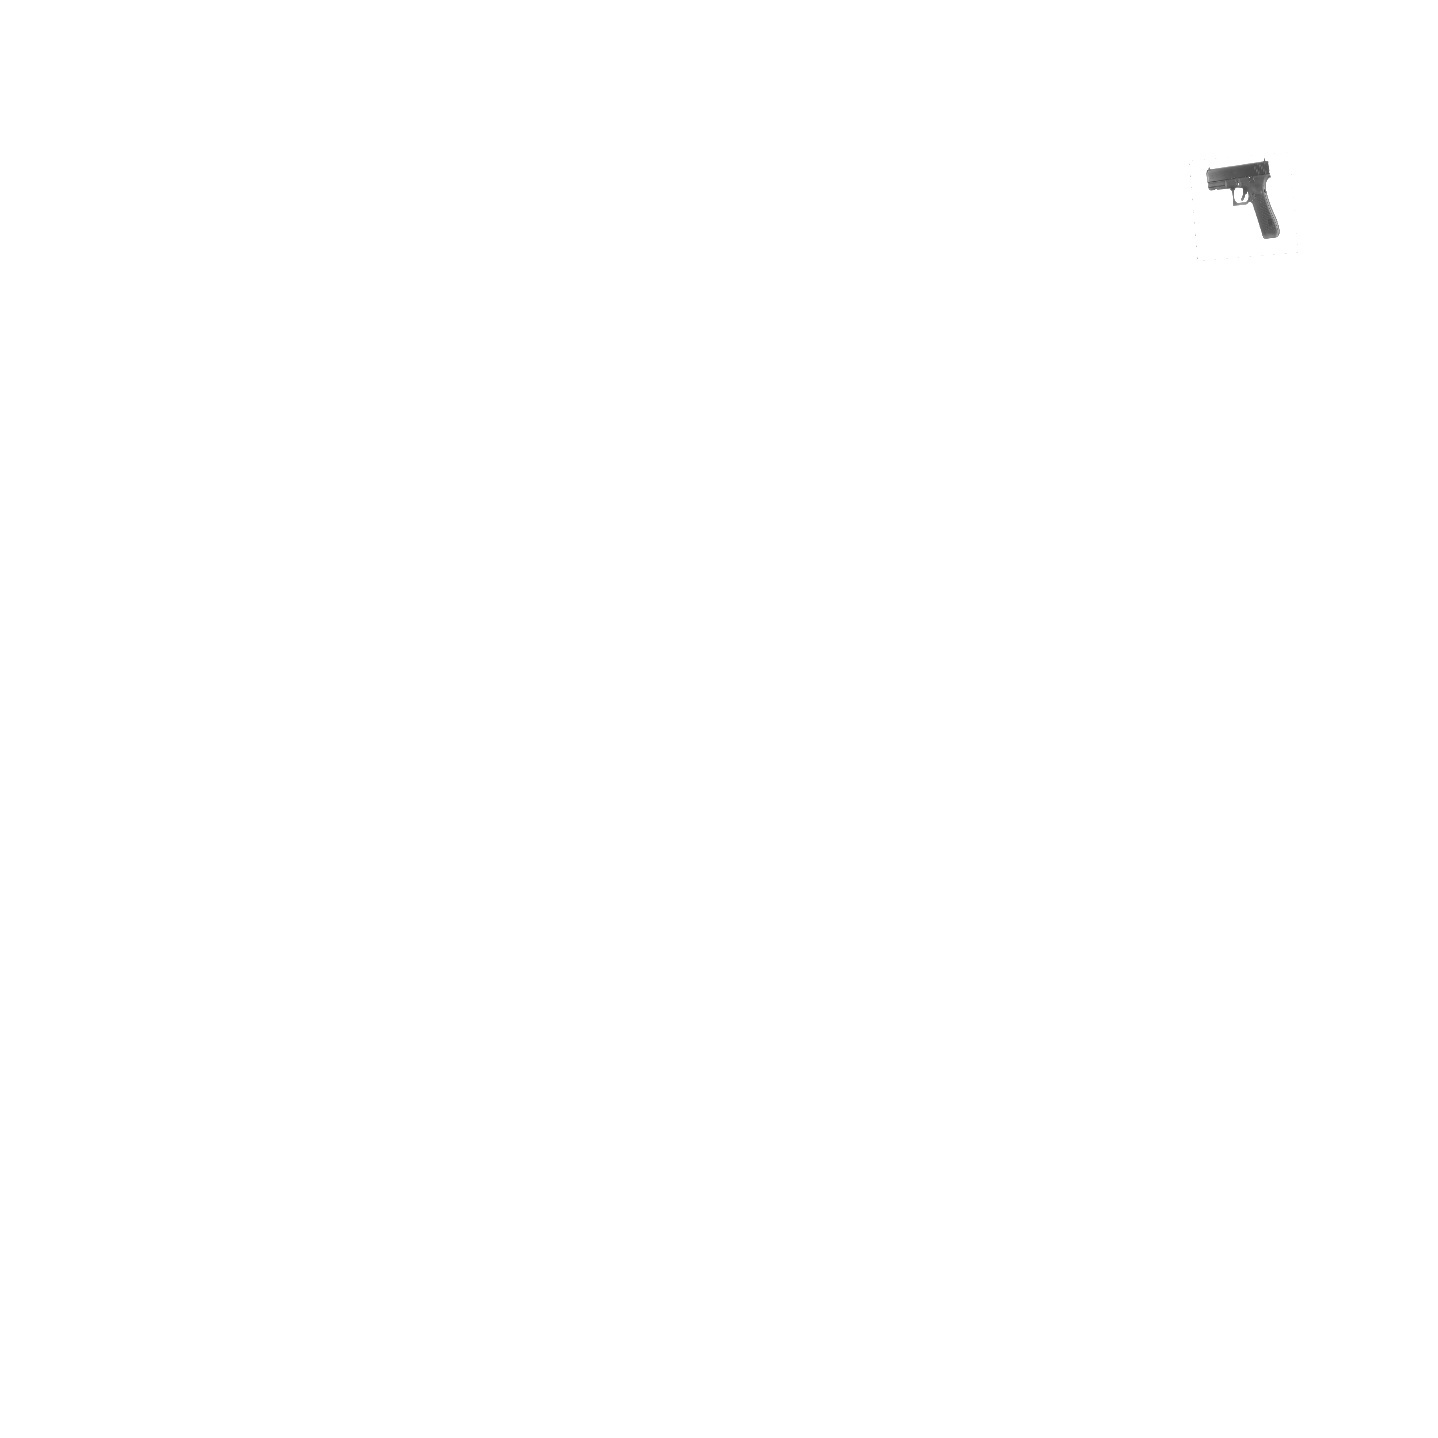gun: (1206, 151, 1287, 253)
